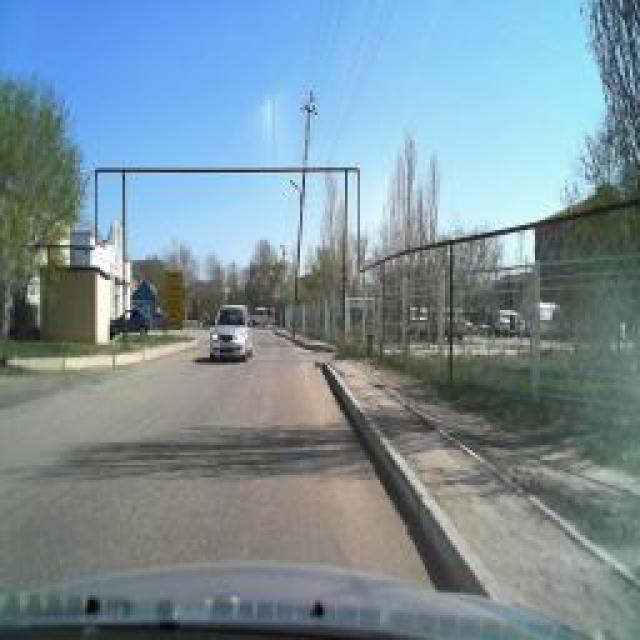sign: (339, 264, 349, 286)
